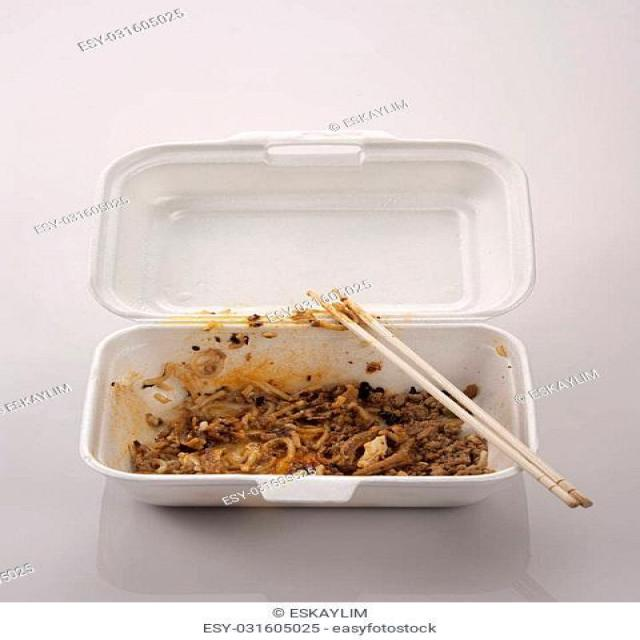styrofoam: (78, 128, 554, 510)
